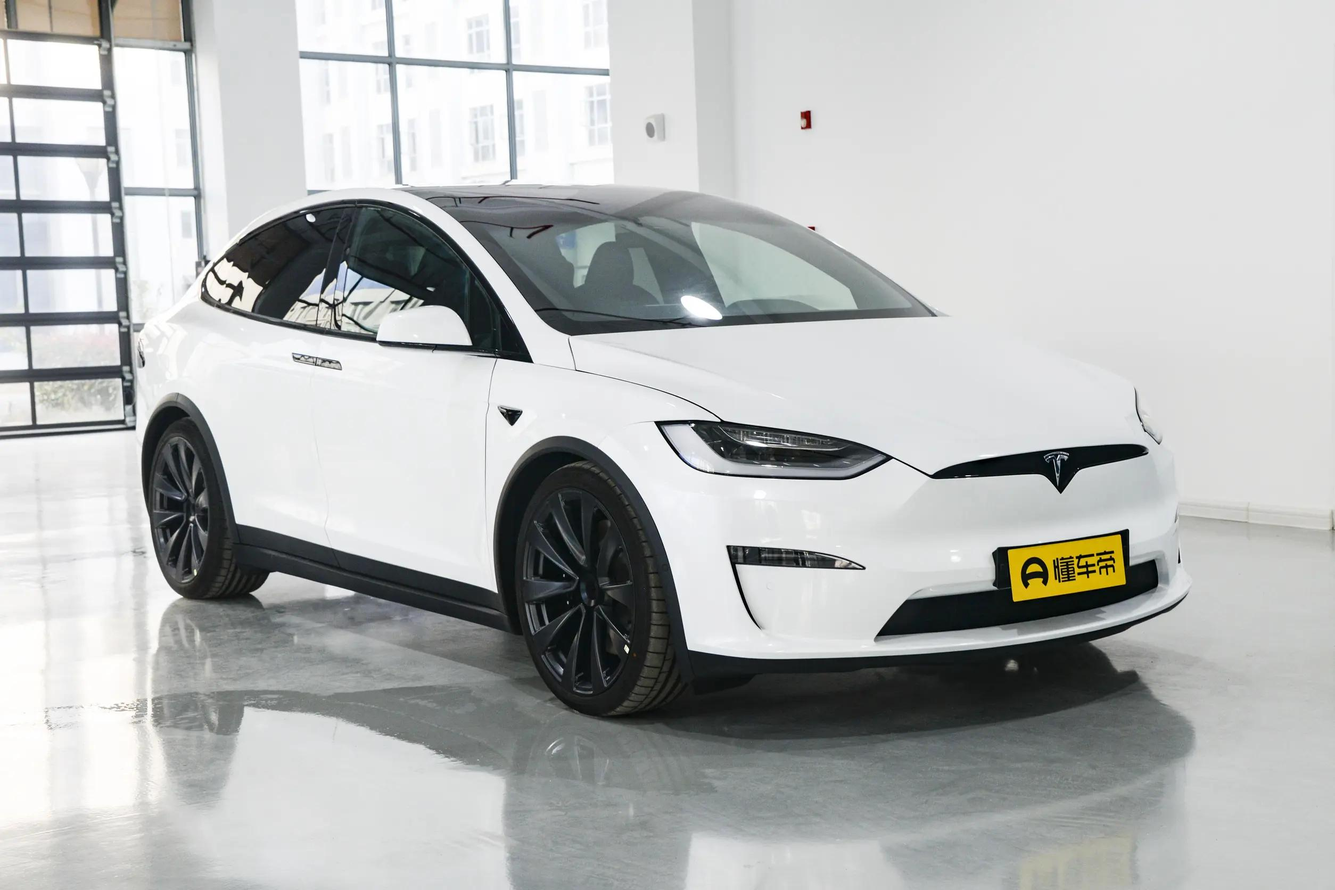Tesla: (1043, 451, 1068, 488)
